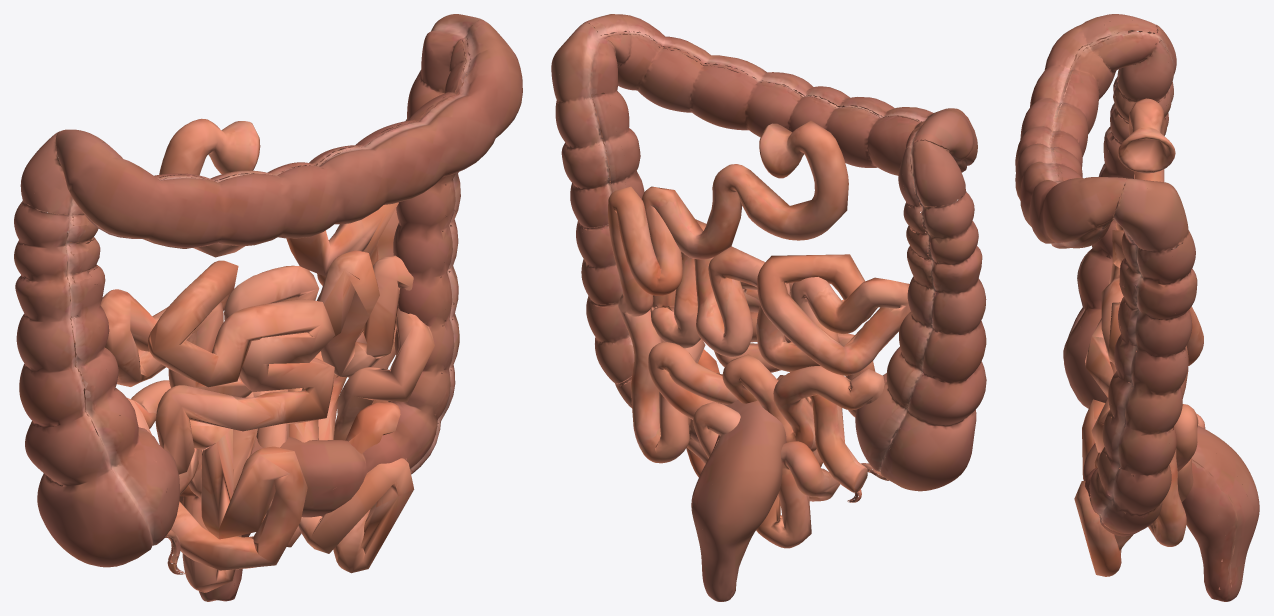
The model's file is Prevention_Diver.glb.
The picture shows the model from 3 angles, left to right: view 1: azimuth 30°, elevation 25°; view 2: azimuth 150°, elevation 25°; view 3: azimuth 270°, elevation 25°; orthographic projection. The views are drawn at different scales.
Parts seen in each view (by area): view 1: PreventionSlim, PreventionColon, PreventionLarge; view 2: PreventionSlim, PreventionColon, PreventionLarge; view 3: PreventionLarge, PreventionColon, PreventionSlim.
Boxes of the visible parts, box(x1,y1,x2,y2) form: PreventionSlim: box(100, 118, 434, 592); PreventionColon: box(14, 20, 522, 584); PreventionLarge: box(20, 14, 484, 601); PreventionSlim: box(608, 120, 910, 548); PreventionColon: box(555, 14, 986, 586); PreventionLarge: box(551, 22, 967, 601); PreventionLarge: box(1049, 20, 1259, 601); PreventionColon: box(1015, 14, 1250, 589); PreventionSlim: box(1074, 98, 1205, 576).
Size of the model in its own units: 2.04 by 2.32 by 1.01.
2 materials, 2 textured.
